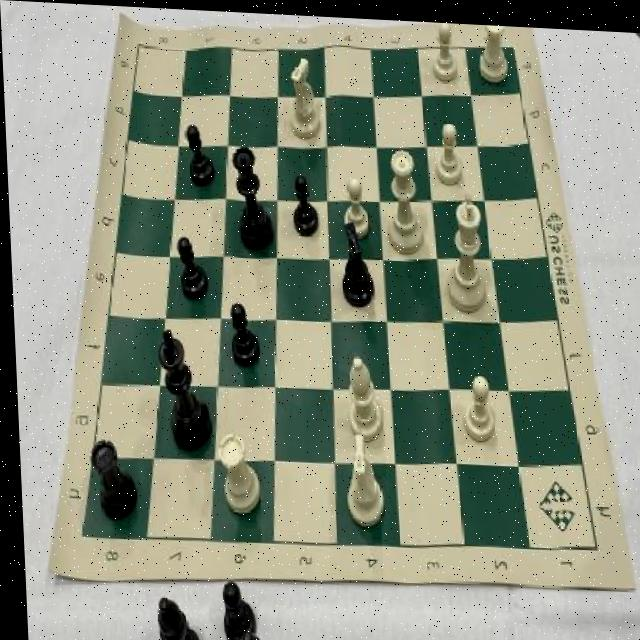black-bishop: (150, 325, 209, 453)
black-king: (333, 218, 378, 306)
black-knight: (173, 229, 211, 303), (182, 120, 216, 191), (224, 296, 257, 367), (288, 168, 318, 234)
black-pawn: (228, 140, 273, 253)
black-queen: (83, 434, 135, 524)
black-rook: (342, 349, 381, 441)
white-bishop: (440, 181, 487, 312)
white-king: (336, 428, 382, 528), (285, 50, 323, 138)
white-knight: (456, 367, 498, 440), (430, 115, 464, 183), (337, 170, 371, 237), (428, 18, 462, 81)
white-pawn: (381, 140, 422, 254)
white-queen: (214, 425, 259, 516), (476, 19, 508, 84)
